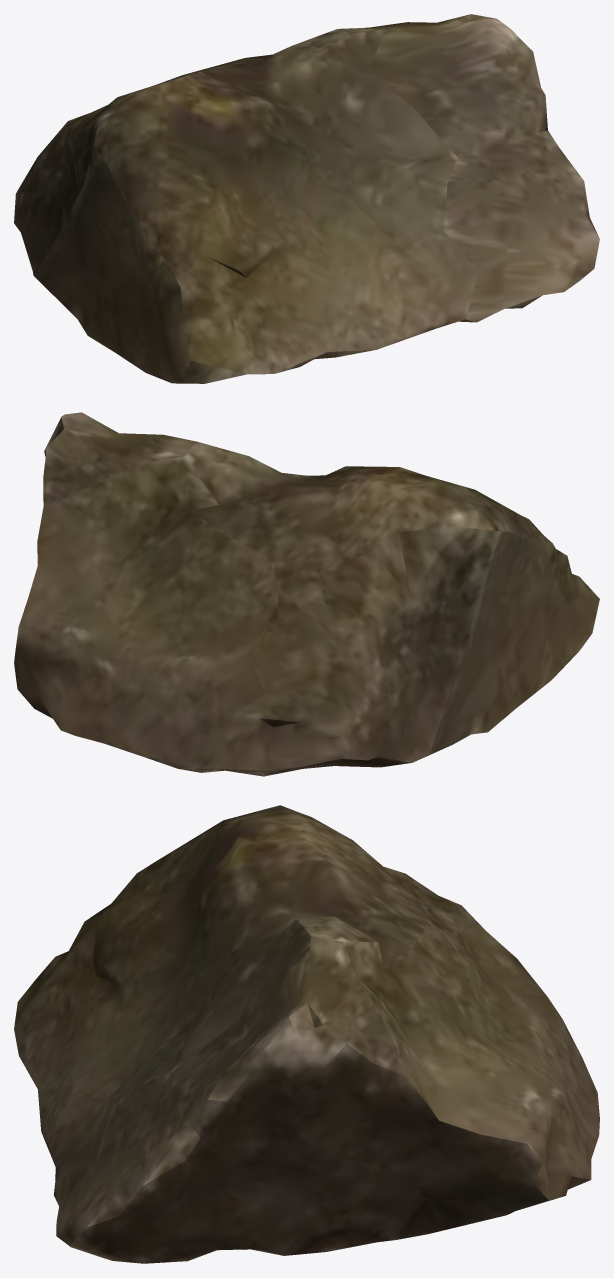
File: rock_set_3.glb
3 renders of one model, top to bottom at view 1: azimuth 30°, elevation 25°; view 2: azimuth 150°, elevation 25°; view 3: azimuth 270°, elevation 25°, orthographic. The views are drawn at different scales.
Visible parts, largest first — view 1: rock_set_3; view 2: rock_set_3; view 3: rock_set_3.
Boxes of the visible parts, box(x1,y1,x2,y2) form: rock_set_3: box(14, 14, 599, 383); rock_set_3: box(14, 412, 599, 776); rock_set_3: box(14, 805, 599, 1263).
Bounding box in the file's own units: 2.11 × 1.09 × 2.07.
1 material, 1 textured.
